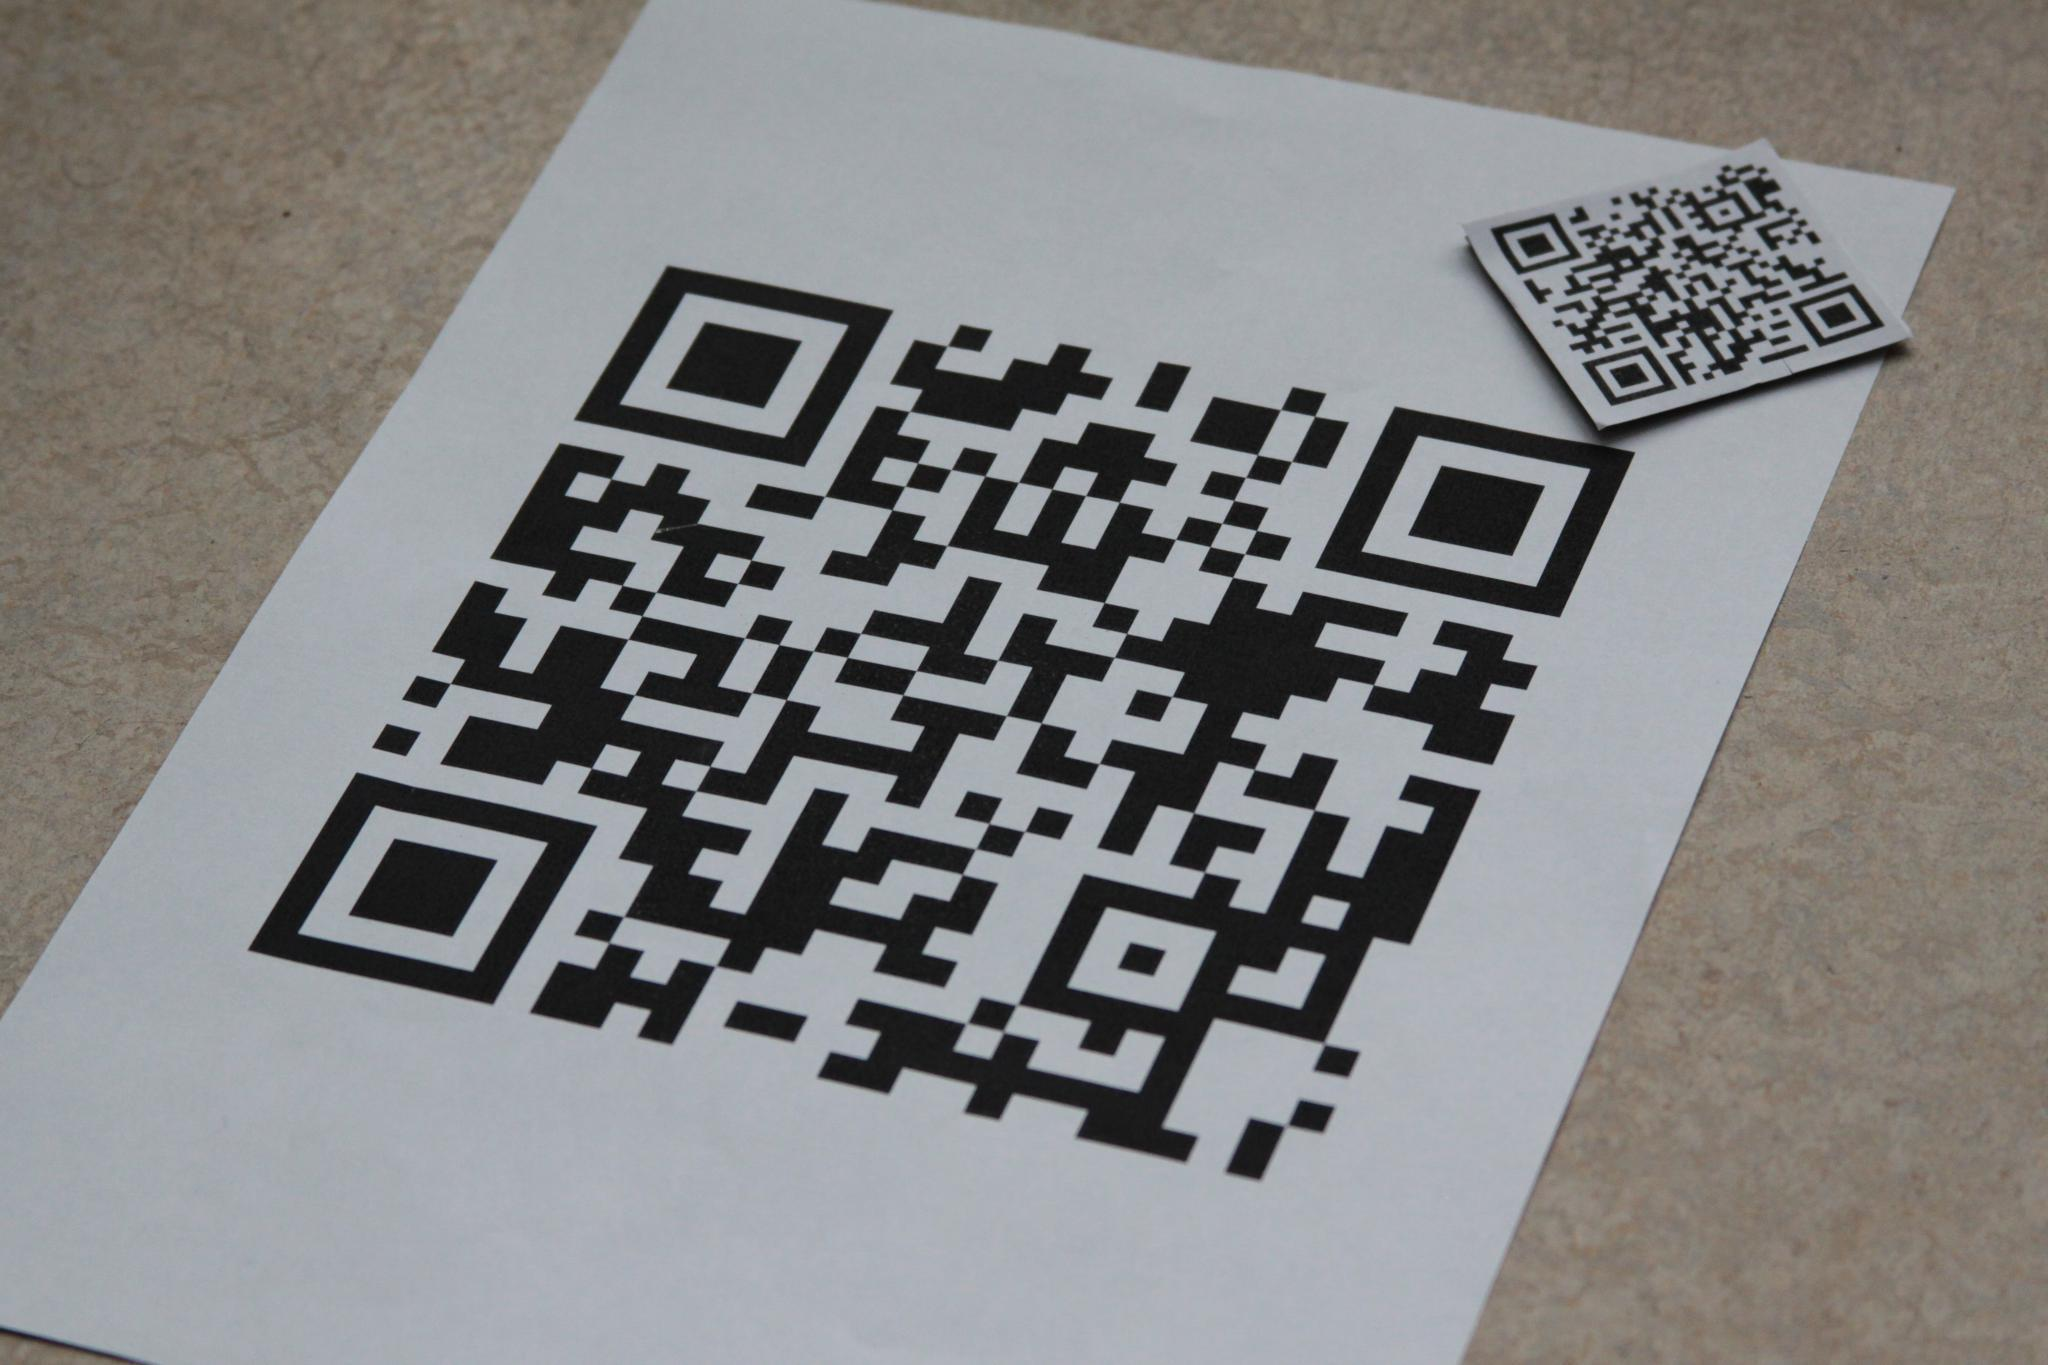qr_code: (247, 262, 1634, 1182), (1491, 163, 1885, 407)
